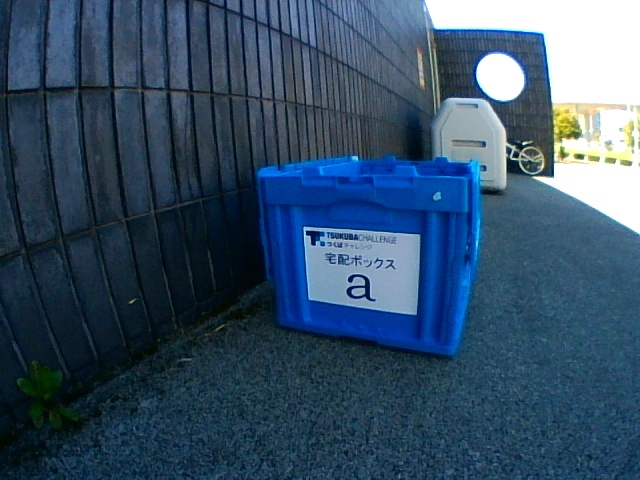blue_box: (254, 156, 479, 356)
tag_a: (323, 252, 404, 303)
